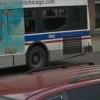Bus: (0, 2, 96, 69)
